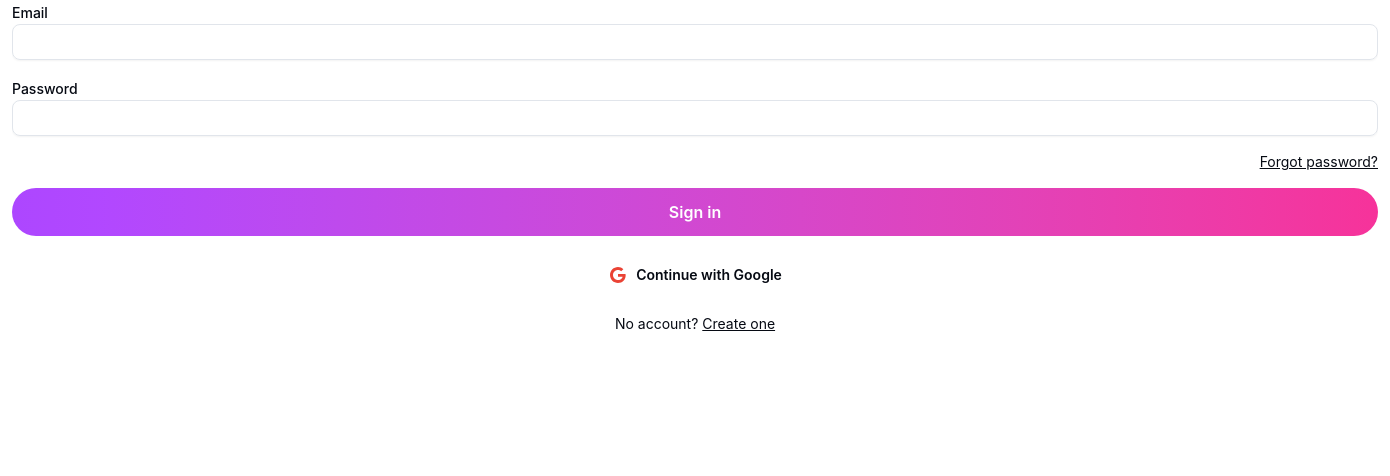
Test: LoginForm › offers to resend the verification email when the email is not verified
Type "a@b.com" into the field labelled "Email" at (695, 42), box [12,24,1378,60]
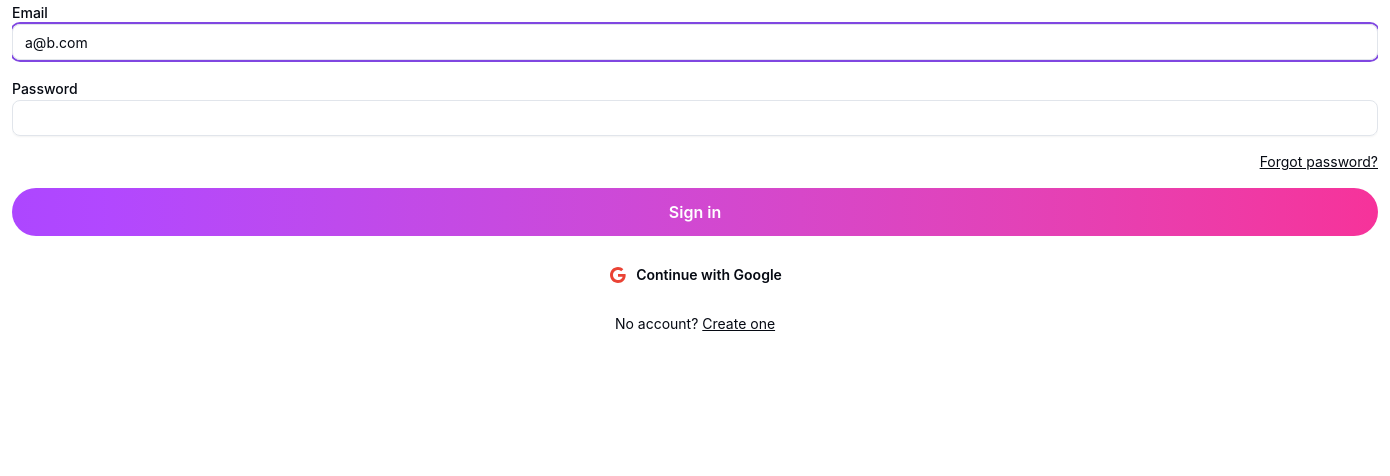
Type "secret123" into the password field labelled "Password" at (695, 118), box [12,100,1378,136]
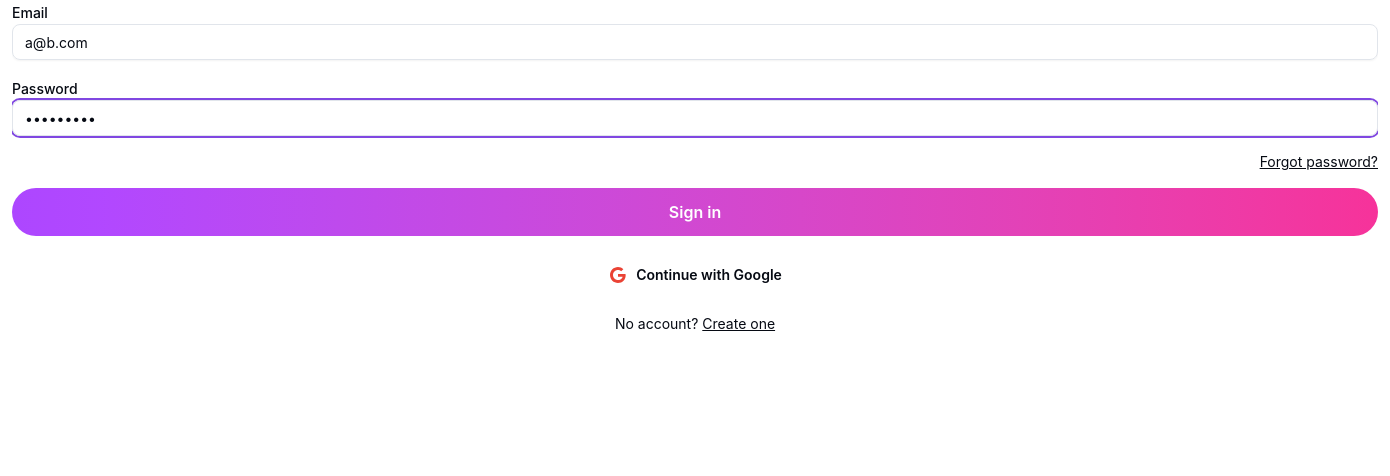
Click the button "Sign in" at (695, 212), box [12,188,1378,236]
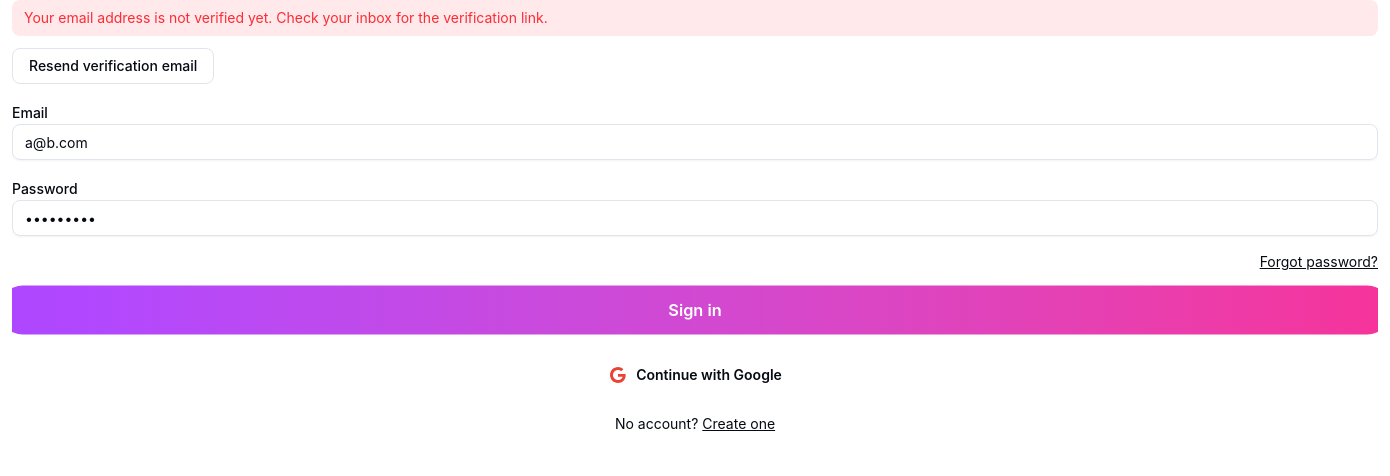
Expected: the message shows "not verified", [24,9,548,26]
Click the button "Resend verification email" at (113, 66), box [12,48,214,84]
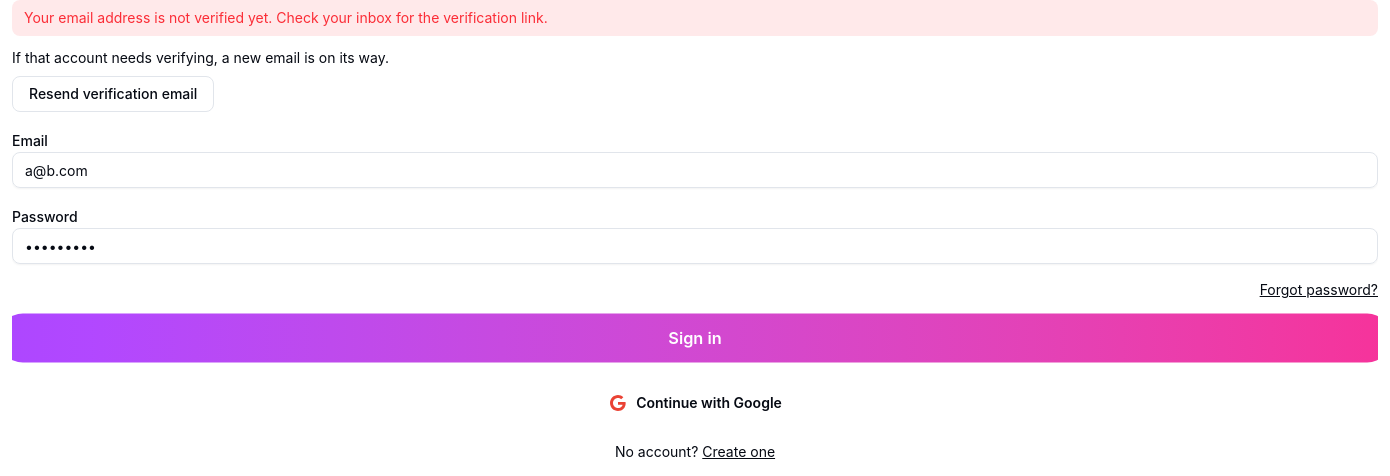
Expected: the text "If that account needs verifying, a new email is on its way." is shown, [12,49,389,66]
